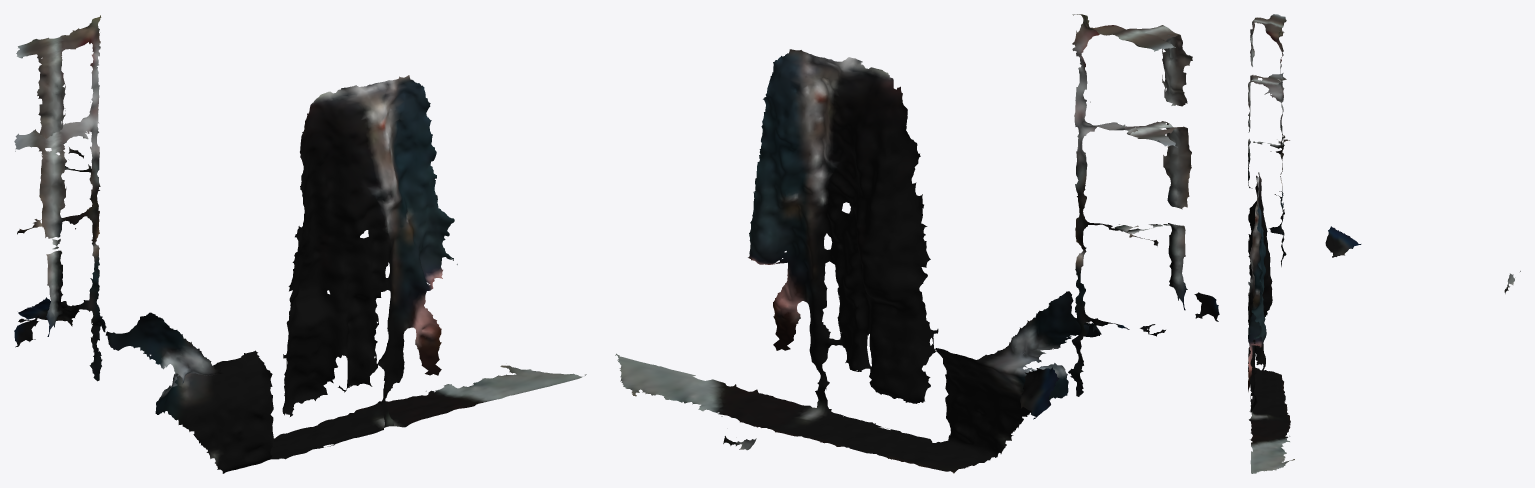
The model's file is color_model_f007_20251226_161544.obj.
3 views of the same model, side by side, from view 1: azimuth 30°, elevation 25°; view 2: azimuth 150°, elevation 25°; view 3: azimuth 270°, elevation 25° (orthographic). The views are drawn at different scales.
Bounding box in the file's own units: 2.12 × 1.66 × 1.35.
